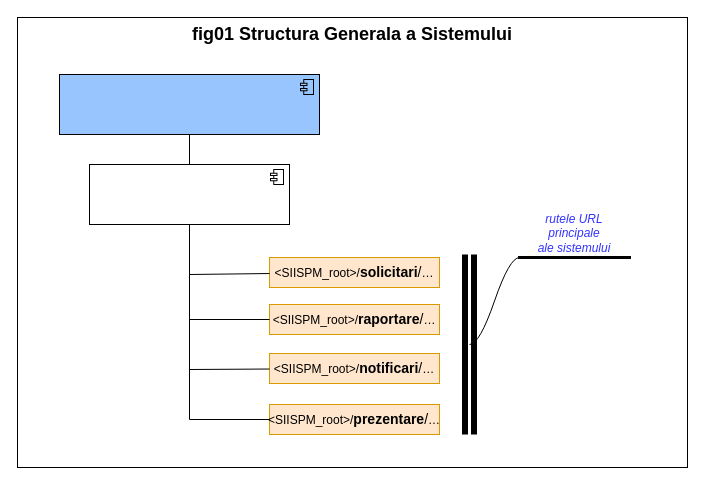
Image size: 705x485. Some labels were removed from this diagram. The shapes that lost their labels are listed below. From the top down, each one's box as (x1, y1, x2, y2) in pixels, then its label:
(58, 74, 320, 134): sii SISPM
(88, 164, 290, 224): Portal web de servicii electronice (inclusiv Portal web general) <SIISPM_root>/
